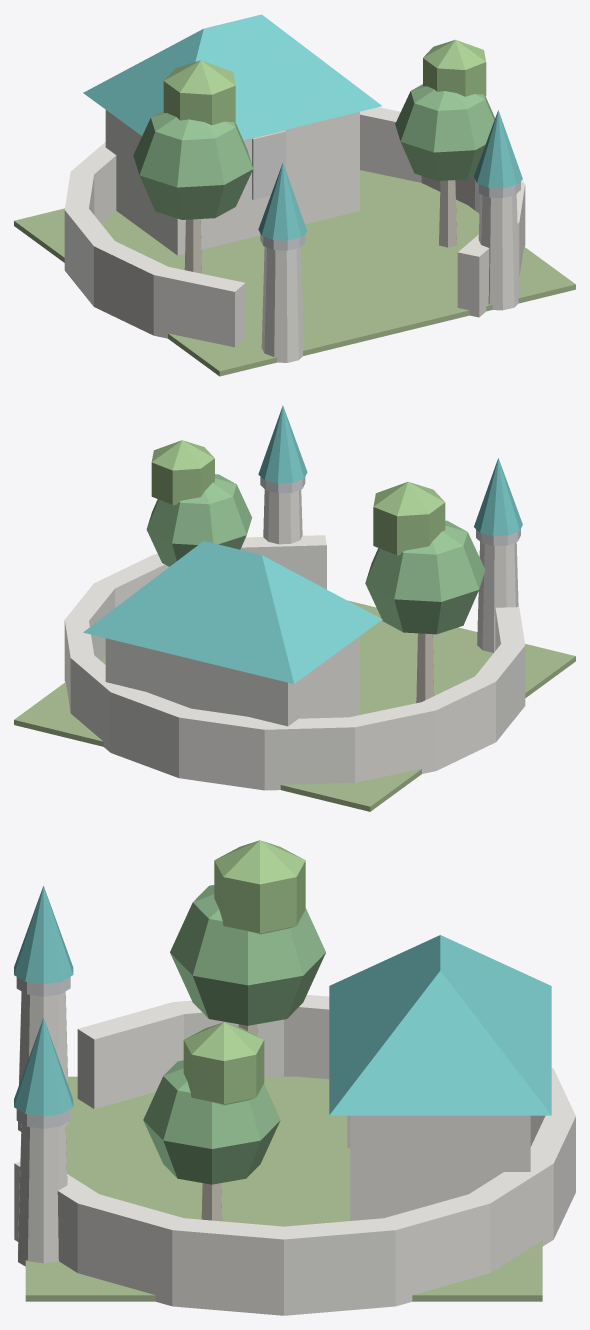
3 renders of one model, top to bottom at view 1: azimuth 30°, elevation 25°; view 2: azimuth 150°, elevation 25°; view 3: azimuth 270°, elevation 25°, orthographic. The views are drawn at different scales.
Visible parts, largest first — view 1: body; view 2: body; view 3: body.
Boxes of the visible parts, box(x1,y1,x2,y2) form: body: box(14, 14, 575, 376); body: box(14, 405, 575, 811); body: box(14, 840, 575, 1315).
Size of the model in its own units: 9.71 by 5.3 by 9.35.
